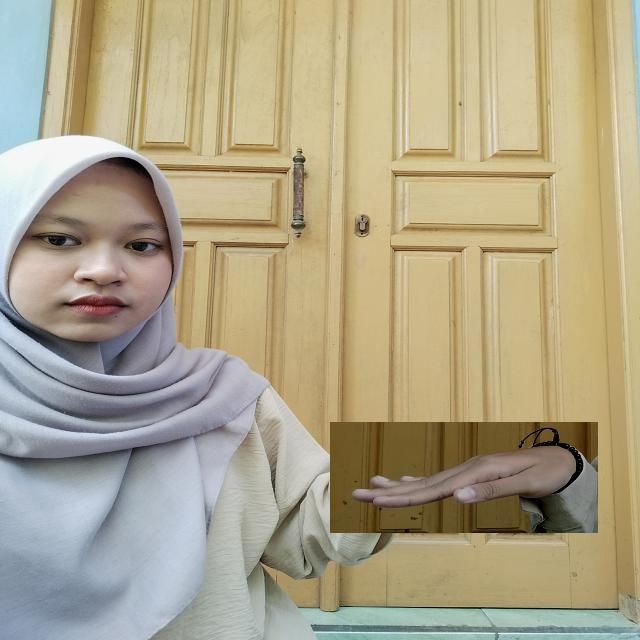adik: (330, 422, 598, 533)
